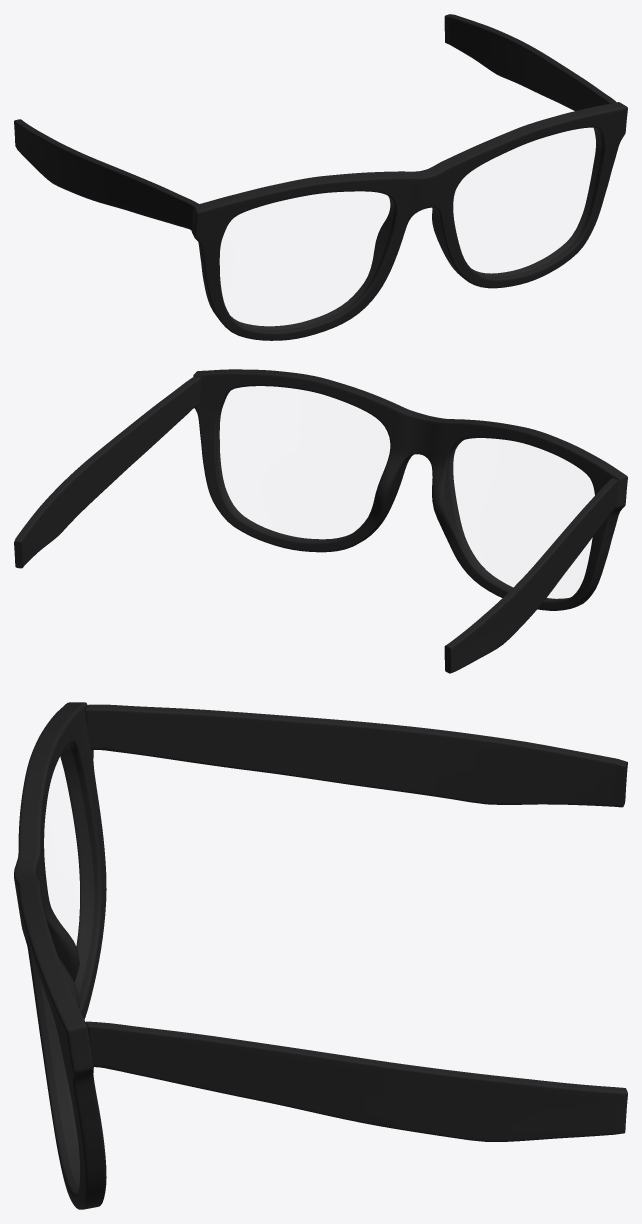
File: Ennio_APP_GLTF.gltf
3 renders of one model, top to bottom at view 1: azimuth 30°, elevation 25°; view 2: azimuth 150°, elevation 25°; view 3: azimuth 270°, elevation 25°, orthographic. The views are drawn at different scales.
Visible parts, largest first — view 1: armacao; view 2: armacao; view 3: armacao.
Part boxes in pixels (x1=…): armacao: x1=14, y1=14, x2=627, y2=340; armacao: x1=14, y1=369, x2=627, y2=673; armacao: x1=14, y1=702, x2=627, y2=1209.
Bounding box in the file's own units: 0.1613 × 0.0558 × 0.1214.
Materials: 2 (1 with a texture image).
